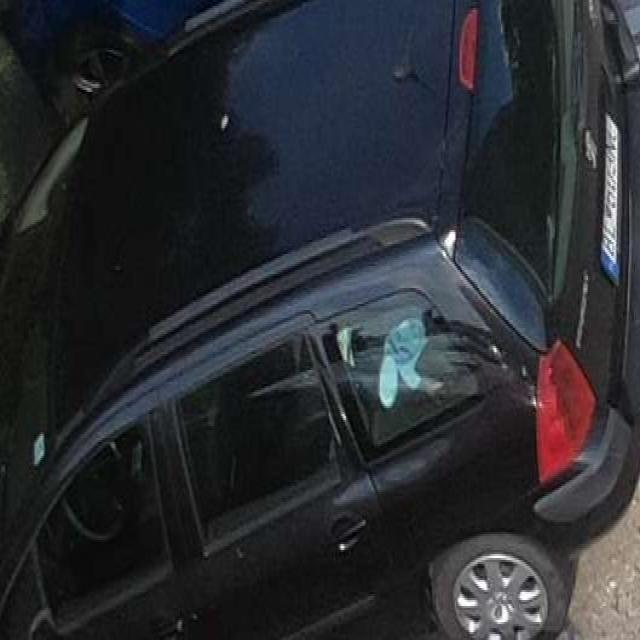Car: (18, 107, 630, 598)
